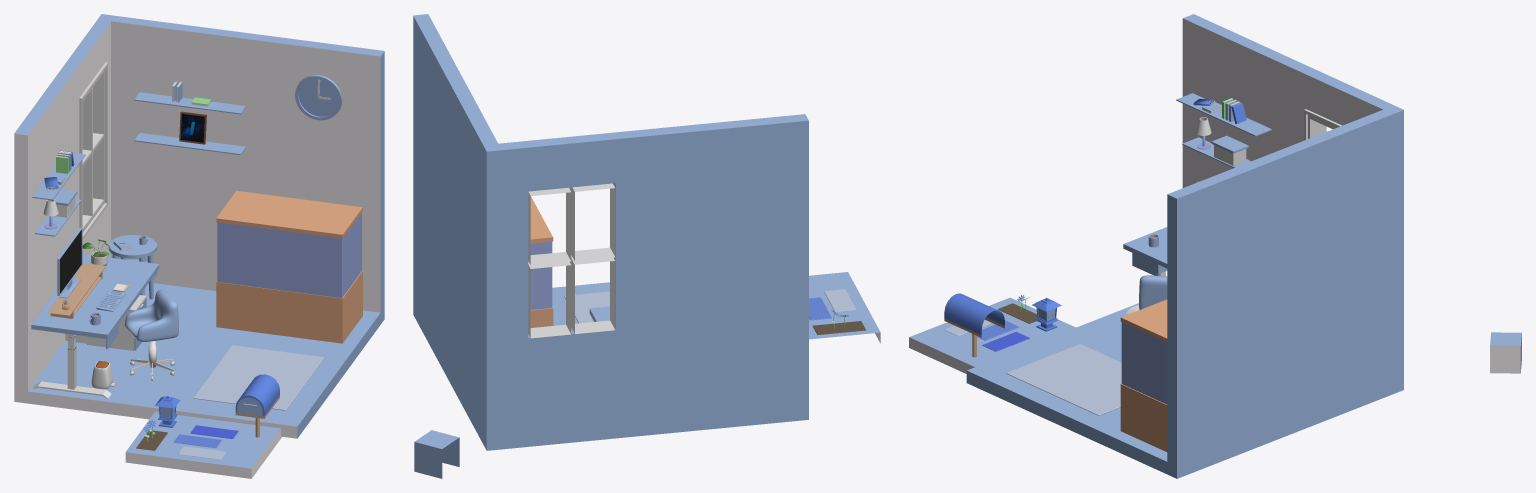
File: My-version.glb
3 views of the same model, side by side, from view 1: azimuth 30°, elevation 25°; view 2: azimuth 150°, elevation 25°; view 3: azimuth 270°, elevation 25° (orthographic). The views are drawn at different scales.
Visible parts, largest first — view 1: Body, Aquarium, Desks, Floor Items, Mini Floor, Shelves, Table Stuff, Chair, Clock, Mailbox, Computer, Lamp (+4 smaller); view 2: Body, Mini Floor, Aquarium, Cube.001, Floor Items, Dirt, FloorThird; view 3: Body, Aquarium, Floor Items, Mini Floor, Shelves, Mailbox, Desks, Cube.001, Chair, Lamp.
Part boxes in pixels (x1,y1,x2,y2): Body: (14, 14, 384, 438); Aquarium: (216, 190, 362, 343); Desks: (31, 235, 159, 398); Floor Items: (87, 295, 324, 410); Mini Floor: (125, 412, 281, 478); Shelves: (32, 81, 246, 236); Table Stuff: (48, 236, 147, 325); Chair: (124, 289, 178, 341); Clock: (295, 75, 342, 120); Mailbox: (235, 374, 279, 437); Computer: (57, 227, 82, 298); Lamp: (155, 396, 180, 427); Body: (413, 14, 808, 450); Mini Floor: (809, 272, 880, 343); Aquarium: (530, 196, 553, 327); Cube.001: (414, 430, 459, 478); Floor Items: (564, 291, 609, 323); Dirt: (812, 321, 865, 334); FloorThird: (824, 289, 856, 311); Body: (966, 14, 1403, 478); Aquarium: (1120, 299, 1167, 451); Floor Items: (1006, 344, 1121, 415); Mini Floor: (909, 297, 1075, 373); Shelves: (1176, 93, 1271, 167); Mailbox: (944, 293, 1004, 357); Desks: (1123, 227, 1167, 313); Cube.001: (1490, 332, 1521, 373); Chair: (1139, 275, 1167, 309); Lamp: (1032, 298, 1061, 331).
Size of the model in its own units: 27.58 by 19.65 by 38.64.
Materials: 44 (1 with a texture image).
